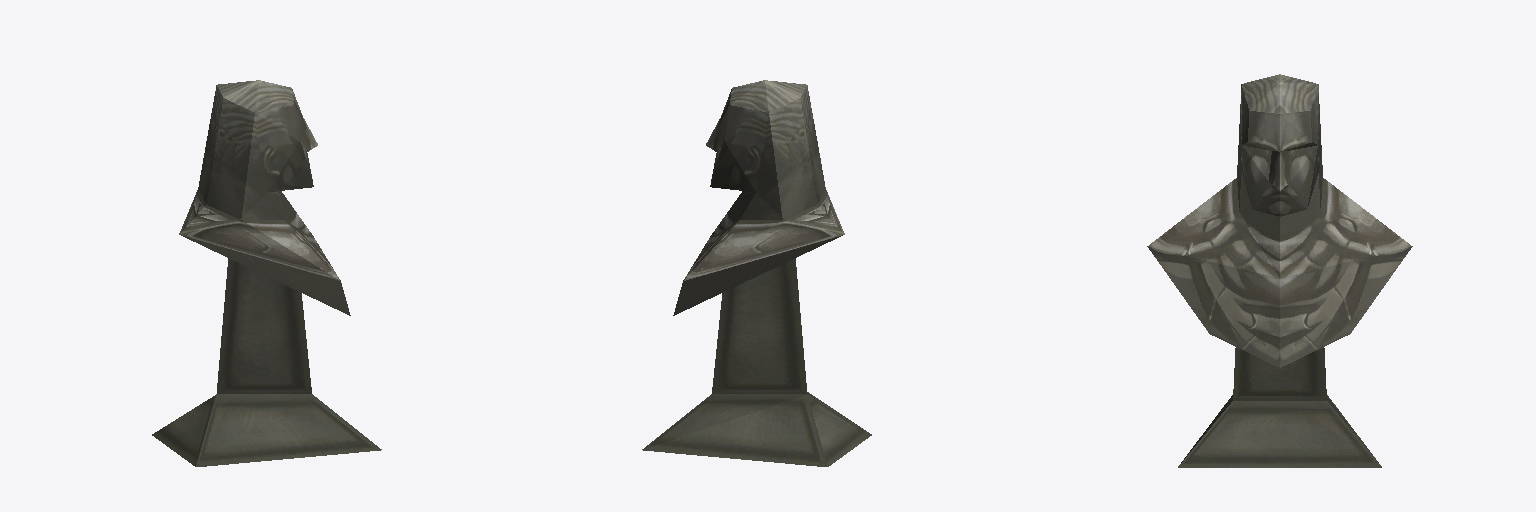
3 renders of one model, left to right at view 1: azimuth 30°, elevation 25°; view 2: azimuth 150°, elevation 25°; view 3: azimuth 270°, elevation 25°, orthographic.
Parts seen in each view (by area): view 1: northshireabbeybust01; view 2: northshireabbeybust01; view 3: northshireabbeybust01.
Part boxes in pixels (left/top/right/bottom): northshireabbeybust01: left=152, top=80, right=381, bottom=466; northshireabbeybust01: left=642, top=80, right=871, bottom=466; northshireabbeybust01: left=1147, top=74, right=1412, bottom=467.
Size of the model in its own units: 0.5565 by 1.13 by 0.7779.
1 materials, 1 textured.